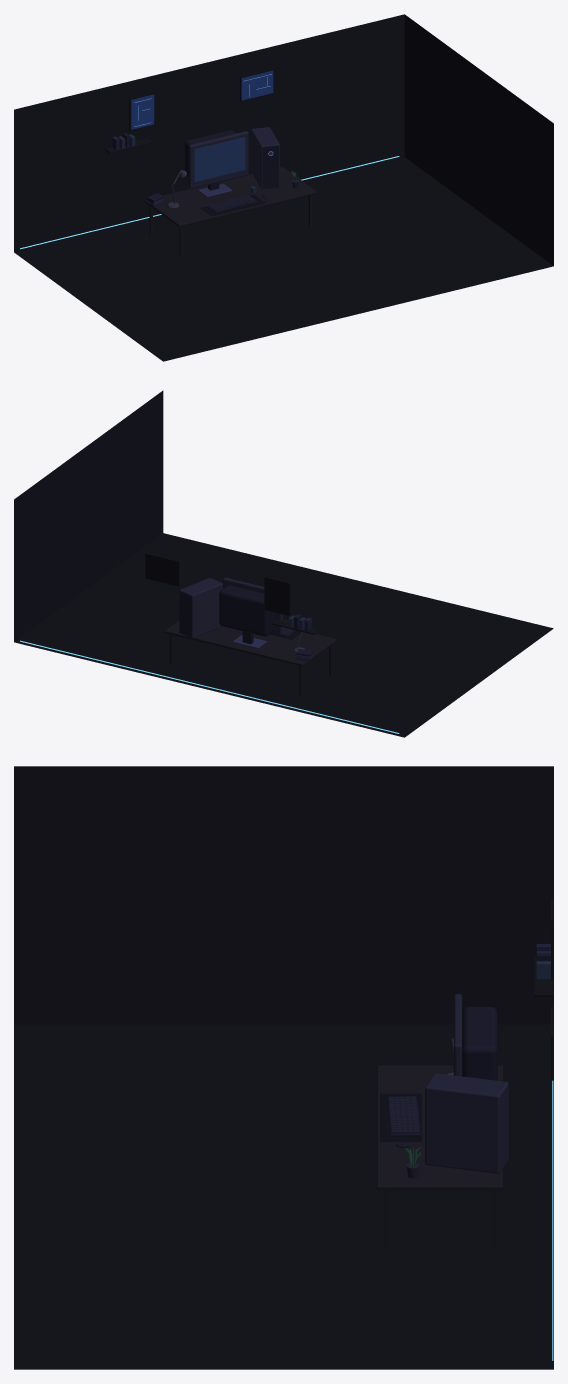
Rendered from landing.glb.
3 renders of one model, top to bottom at view 1: azimuth 30°, elevation 25°; view 2: azimuth 150°, elevation 25°; view 3: azimuth 270°, elevation 25°, orthographic. The views are drawn at different scales.
Parts seen in each view (by area): view 1: Floor, Wall_Back, Wall_Right, Desk_Top, Screen, Monitor_Shell, Tower_Case, Panel_Right_Panel, Panel_Left_Panel, Tower_Front; view 2: Floor, Wall_Right, Desk_Top, Monitor_Back, Tower_Case, Panel_Right_Frame, Panel_Left_Frame, Accent_Baseboard, Monitor_Shell; view 3: Floor, Wall_Left, Tower_Case, Desk_Top, Monitor_Back, Keyboard_Keys, Desk_Mat, Monitor_Shell.
Boxes of the visible parts, x1,y1,x2,y2 form: Floor: (14, 157, 553, 361); Wall_Back: (14, 14, 404, 252); Wall_Right: (404, 14, 553, 265); Desk_Top: (144, 166, 316, 227); Screen: (194, 137, 245, 181); Monitor_Shell: (188, 131, 248, 188); Tower_Case: (251, 127, 279, 189); Panel_Right_Panel: (241, 70, 273, 100); Panel_Left_Panel: (131, 94, 154, 129); Tower_Front: (262, 146, 278, 187); Floor: (14, 533, 553, 737); Wall_Right: (14, 390, 163, 641); Desk_Top: (164, 620, 336, 666); Monitor_Back: (219, 585, 274, 636); Tower_Case: (179, 577, 222, 638); Panel_Right_Frame: (145, 553, 179, 586); Panel_Left_Frame: (264, 577, 290, 615); Accent_Baseboard: (20, 640, 399, 733); Monitor_Shell: (223, 577, 282, 635); Floor: (14, 1024, 553, 1369); Wall_Left: (14, 766, 553, 1024); Tower_Case: (425, 1073, 508, 1173); Desk_Top: (377, 1065, 502, 1190); Monitor_Back: (462, 1006, 497, 1080); Keyboard_Keys: (389, 1096, 418, 1133); Desk_Mat: (380, 1093, 421, 1141); Monitor_Shell: (453, 994, 462, 1076).
Bounding box in the file's own units: 13.6 × 4.78 × 9.
